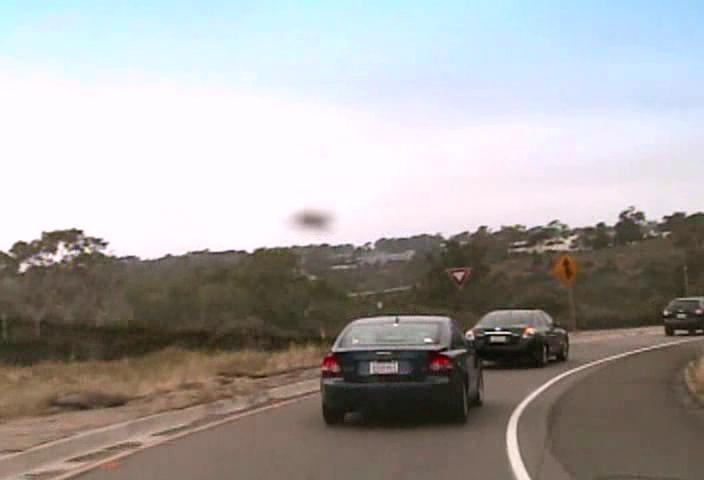merge: (550, 252, 581, 287)
